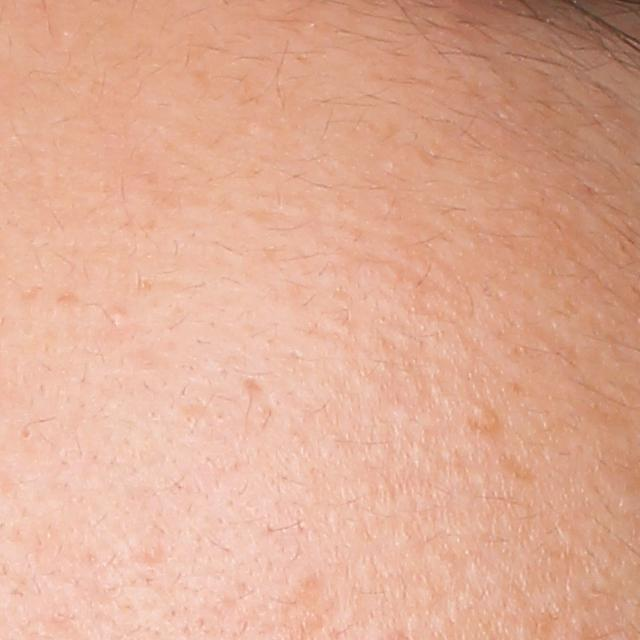atrophic_scar: (239, 376, 269, 397)
comedo: (469, 402, 495, 424), (14, 421, 32, 442)
